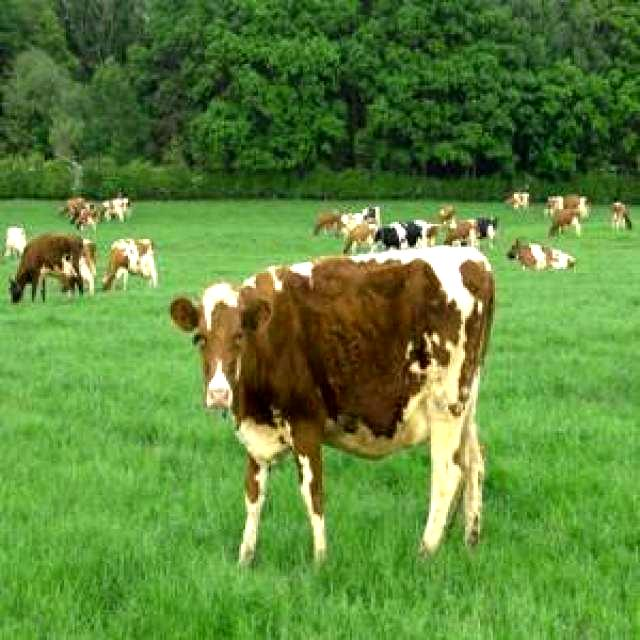COW: (171, 246, 495, 564)
